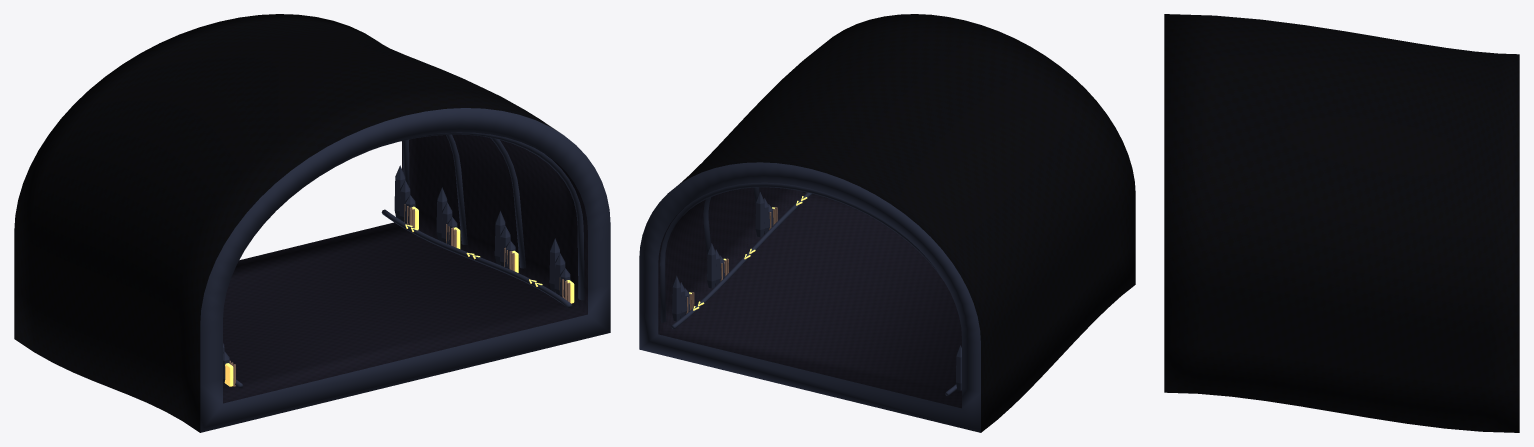
File: grade_down.glb
3 renders of one model, left to right at view 1: azimuth 30°, elevation 25°; view 2: azimuth 150°, elevation 25°; view 3: azimuth 270°, elevation 25°, orthographic. The views are drawn at different scales.
Visible parts, largest first — view 1: TunnelGeometry; view 2: TunnelGeometry; view 3: TunnelGeometry.
Part boxes in pixels (bbox=[...]): TunnelGeometry: bbox=[14, 14, 610, 432]; TunnelGeometry: bbox=[639, 14, 1135, 432]; TunnelGeometry: bbox=[1164, 14, 1519, 432].
Size of the model in its own units: 15.3 by 11.02 by 12.
Materials: 5 (2 with a texture image).
